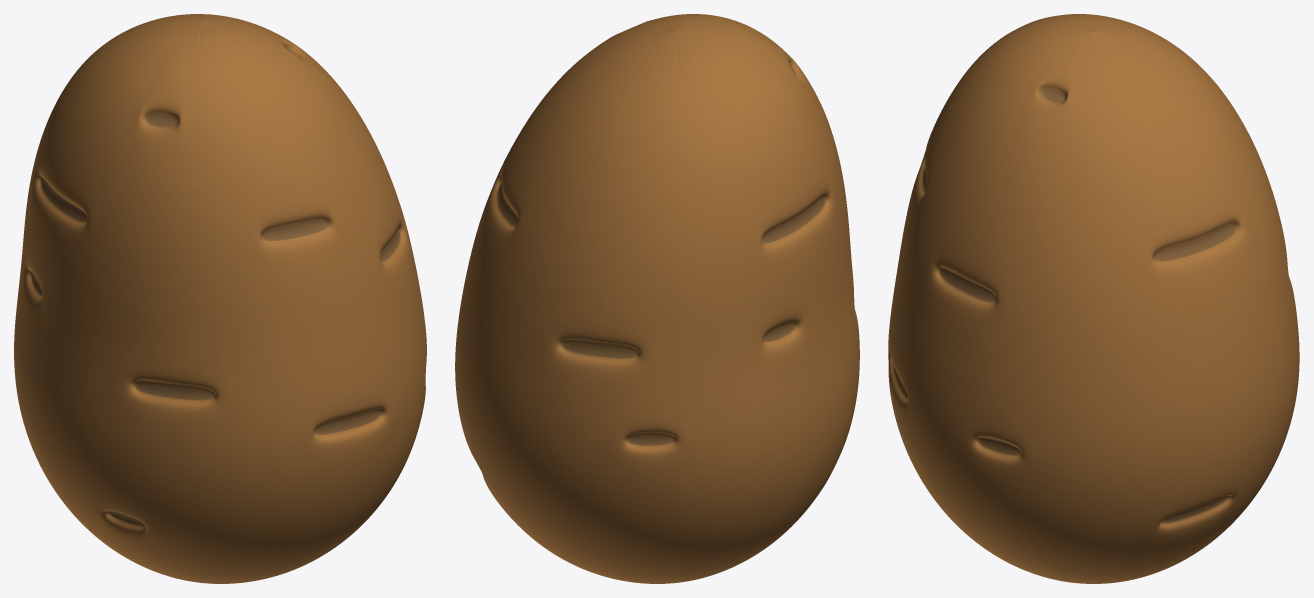
File: potato.fbx
3 renders of one model, left to right at view 1: azimuth 30°, elevation 25°; view 2: azimuth 150°, elevation 25°; view 3: azimuth 270°, elevation 25°, orthographic. The views are drawn at different scales.
Visible parts, largest first — view 1: potato; view 2: potato; view 3: potato.
Part boxes in pixels (x1,y1,x2,y2): potato: (14,14,426,583); potato: (455,14,859,583); potato: (888,14,1299,583).
Bounding box in the file's own units: 128 × 193 × 137.
